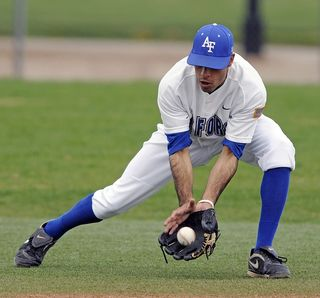LeftAnkle: (243, 241, 291, 282)
LeftElbow: (213, 140, 240, 185)
LeftKnee: (262, 132, 300, 181)
LeftShoulder: (238, 54, 275, 123)
RightAnkle: (17, 220, 51, 270)
RightElbow: (160, 135, 195, 167)
RightKnee: (77, 177, 123, 229)
RightShoulder: (151, 61, 192, 120)
